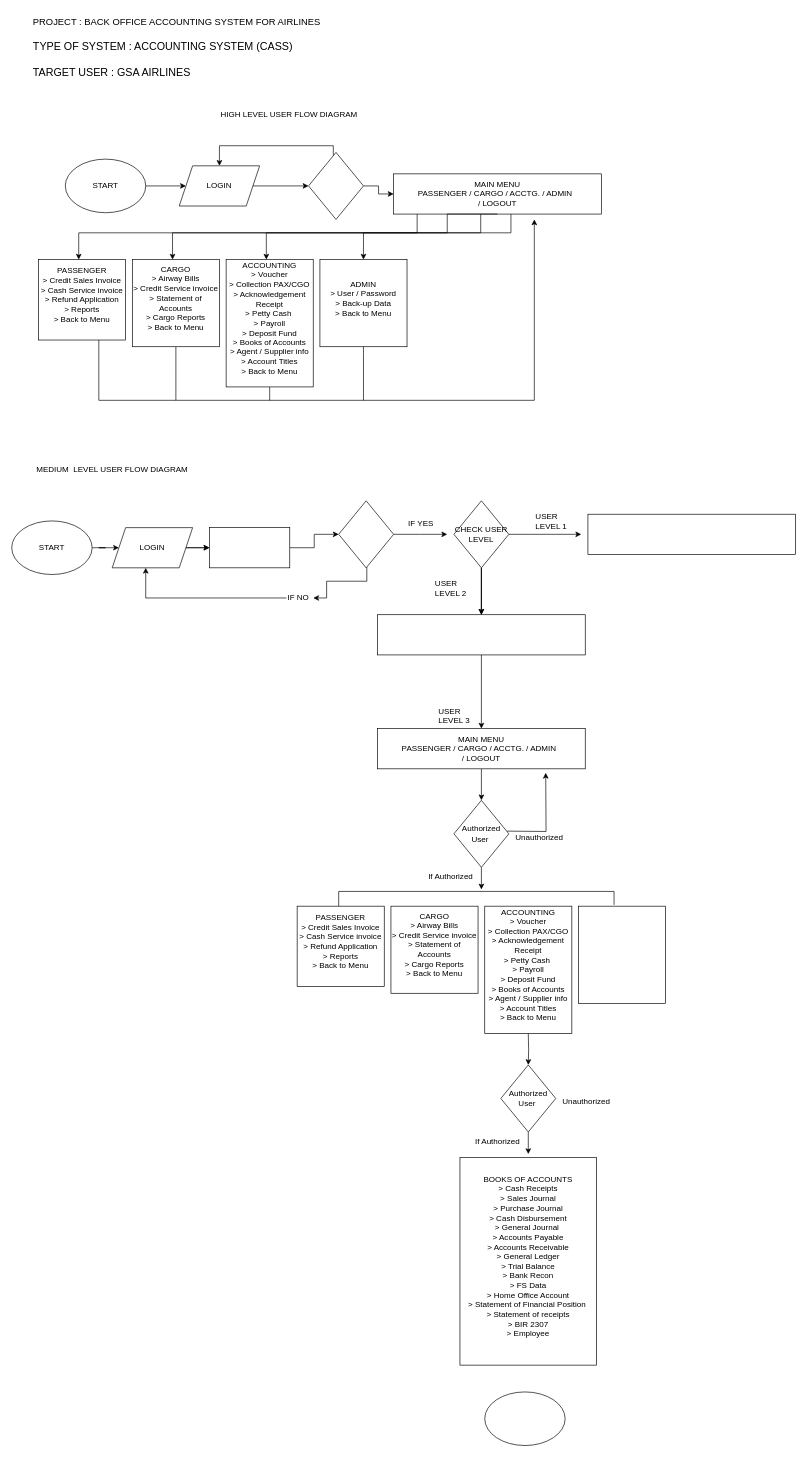
This 807x1457 diagram has some shape labels left out. The centre of each missing label's shape, as x and y in pixels:
ADMIN > User / Password > Employee's Record > Back-up Data > Back to Menu: the point at 622,954
End: the point at 524,1418
IF OK GO TO MAIN MENU ELSE BACK TO LOGIN: the point at 335,185
LEVEL 1 MENU / LOGOUT: the point at 691,534
LEVEL 2 MENU / LOGOUT: the point at 481,634
OTP via EMAIL: the point at 249,547
VERIFIED OTP & PASSWORD: the point at 366,534
